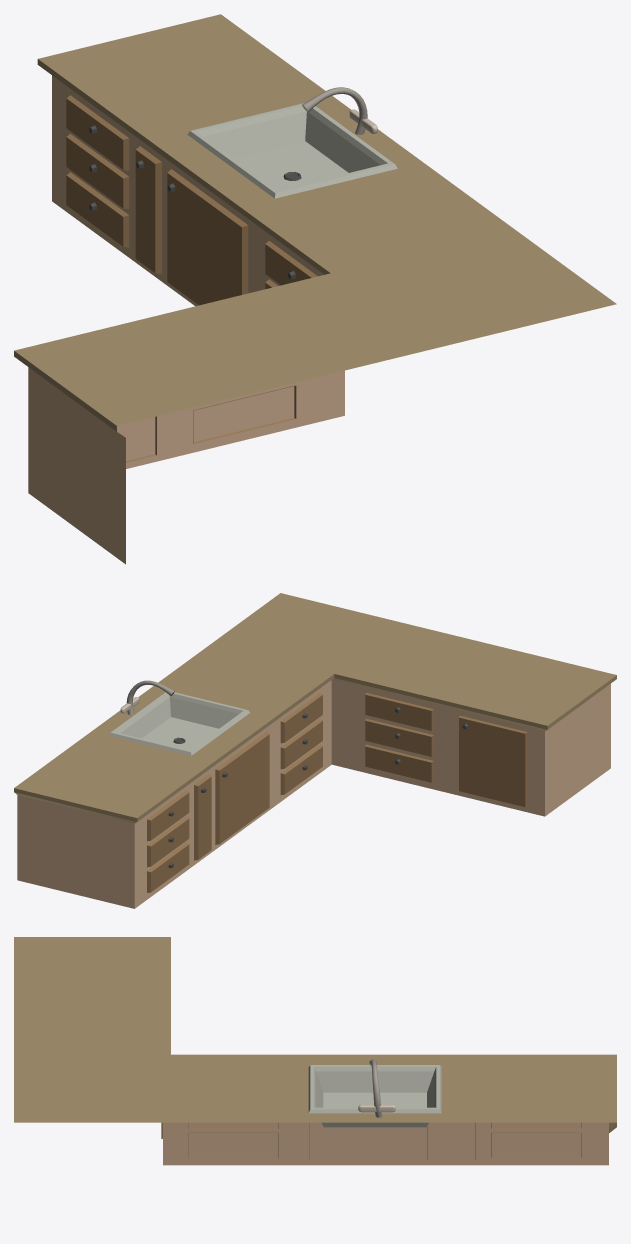
Rendered from kitchen_set.fbx.
3 views of the same model, one above another, from view 1: azimuth 30°, elevation 25°; view 2: azimuth 150°, elevation 25°; view 3: azimuth 270°, elevation 25° (orthographic). The views are drawn at different scales.
Parts seen in each view (by area): view 1: kitchen_set; view 2: kitchen_set; view 3: kitchen_set.
Part boxes in pixels (<box>): kitchen_set: <box>14,14,616,564</box>; kitchen_set: <box>14,593,616,908</box>; kitchen_set: <box>14,937,616,1165</box>.
Size of the model in its own units: 284 by 106 by 390.
